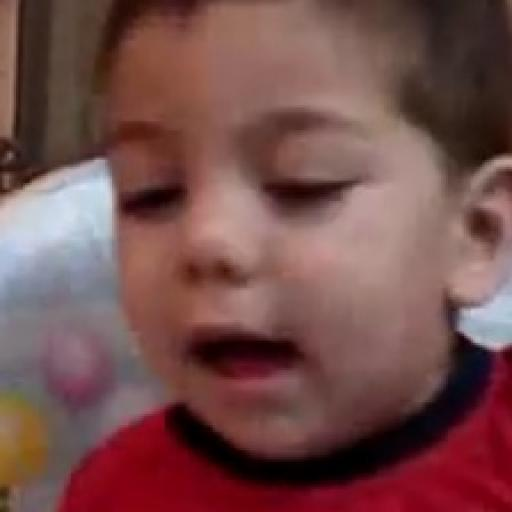Autism: (64, 9, 511, 512)
